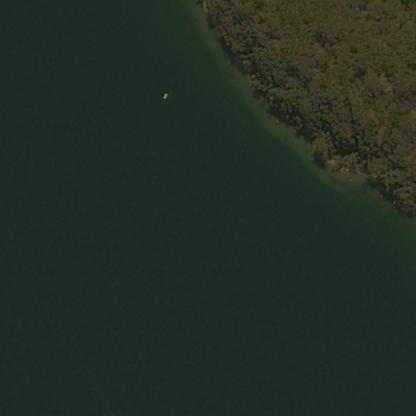ship: (162, 92, 167, 99)
